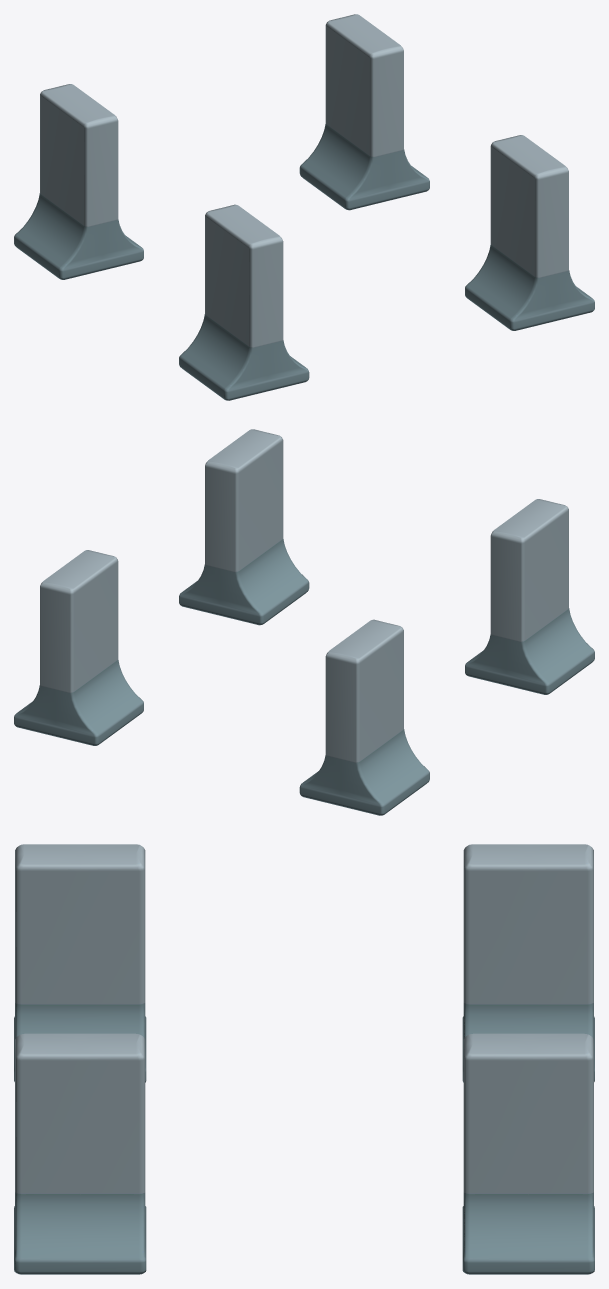
The model's file is Props.fbx.
3 renders of one model, top to bottom at view 1: azimuth 30°, elevation 25°; view 2: azimuth 150°, elevation 25°; view 3: azimuth 270°, elevation 25°, orthographic. The views are drawn at different scales.
Visible parts, largest first — view 1: 曲面单元 (×4); view 2: 曲面单元 (×4); view 3: 曲面单元 (×4).
Boxes of the visible parts, x1,y1,x2,y2 form: 曲面单元 (×4): [14, 14, 594, 400]; 曲面单元 (×4): [14, 429, 594, 815]; 曲面单元 (×4): [14, 844, 594, 1274].
Bounding box in the file's own units: 12.96 × 5.02 × 12.95.
